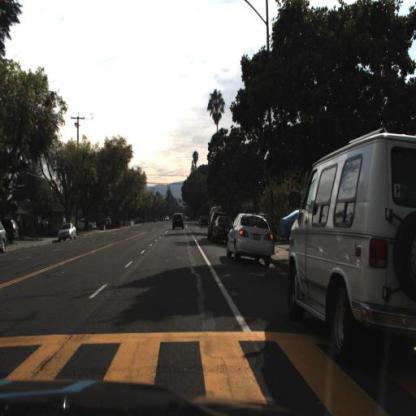car: (287, 132, 416, 350), (228, 210, 272, 269), (279, 211, 306, 242), (2, 216, 20, 257), (211, 211, 229, 248), (211, 215, 228, 246), (172, 212, 187, 237), (57, 223, 77, 241), (75, 218, 99, 232), (200, 214, 211, 230)
